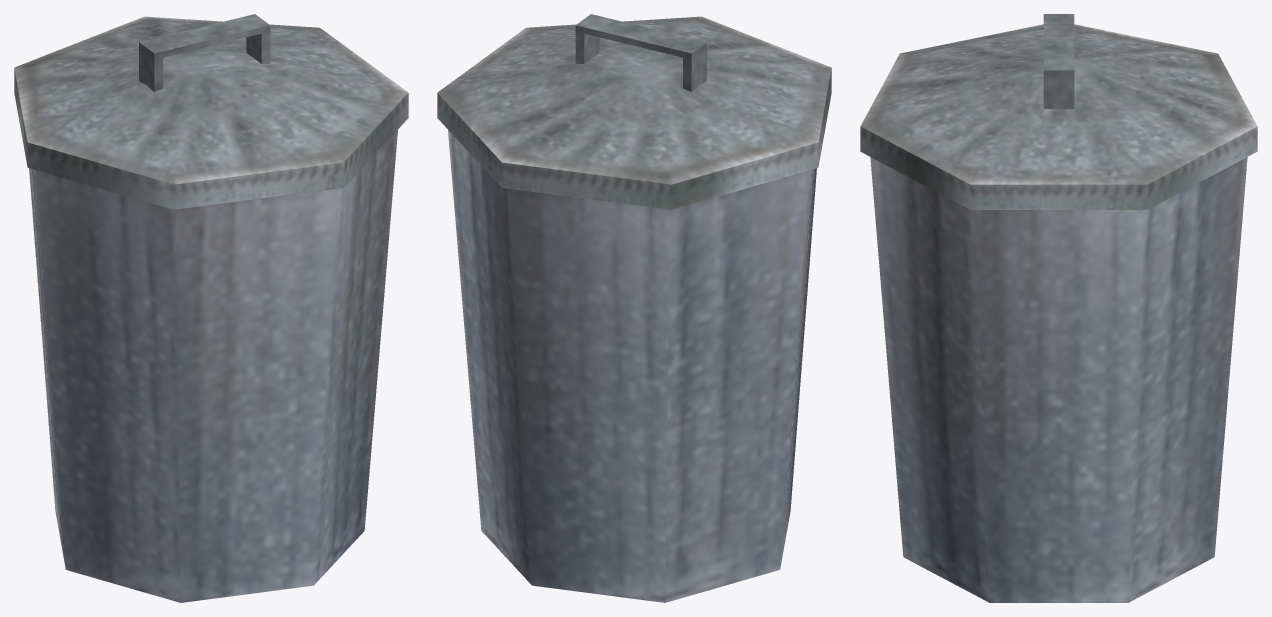
Rendered from Trash can.fbx.
The picture shows the model from 3 angles, left to right: view 1: azimuth 30°, elevation 25°; view 2: azimuth 150°, elevation 25°; view 3: azimuth 270°, elevation 25°; orthographic projection.
Parts seen in each view (by area): view 1: trash_can_01, trash_can_Top_01; view 2: trash_can_01, trash_can_Top_01; view 3: trash_can_01, trash_can_Top_01.
Part boxes in pixels (box(x1,y1,x2,y2)): trash_can_01: box(29, 130, 397, 602); trash_can_Top_01: box(14, 14, 408, 209); trash_can_01: box(448, 130, 816, 602); trash_can_Top_01: box(437, 14, 831, 209); trash_can_01: box(870, 157, 1247, 602); trash_can_Top_01: box(860, 14, 1257, 209).
Bounding box in the file's own units: 0.6427 × 0.9158 × 0.6592.
1 material, 1 textured.
